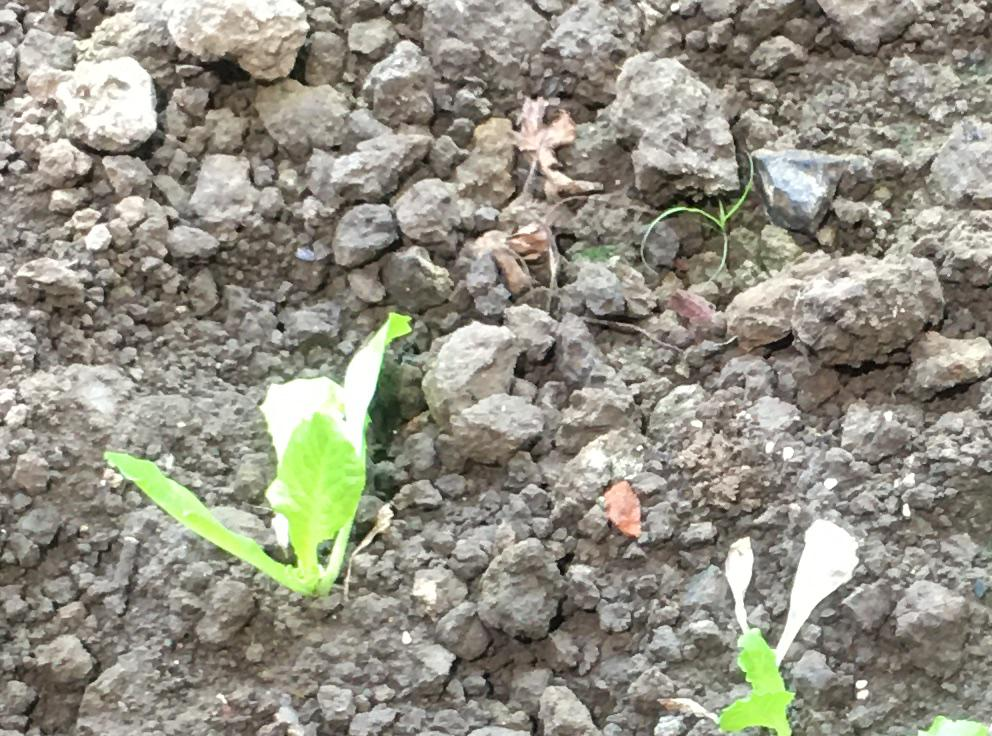block: (793, 256, 948, 373), (419, 320, 535, 462), (166, 1, 307, 86), (422, 1, 548, 94), (54, 59, 160, 156), (749, 144, 847, 236), (471, 543, 561, 642)
